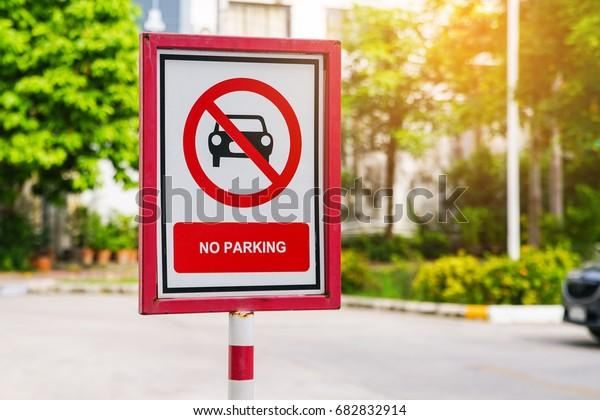No Parking: (160, 58, 319, 280)
